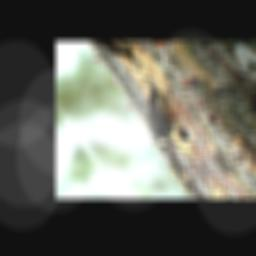Woodpecker: (116, 78, 202, 156)
